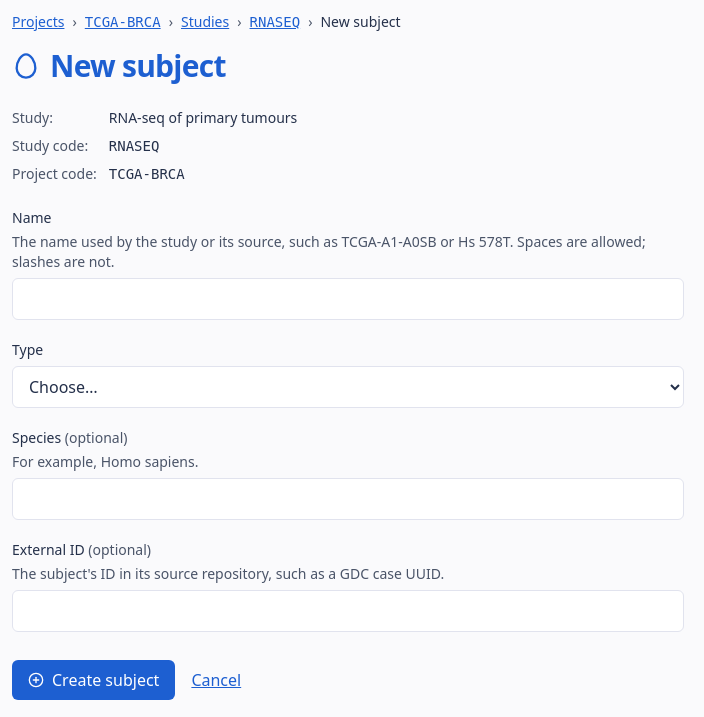
Test: NewSubjectPage › shows that the subject is being created
Type "Hs 578T" into the field labelled "Name" at (348, 299), box [12, 278, 684, 320]
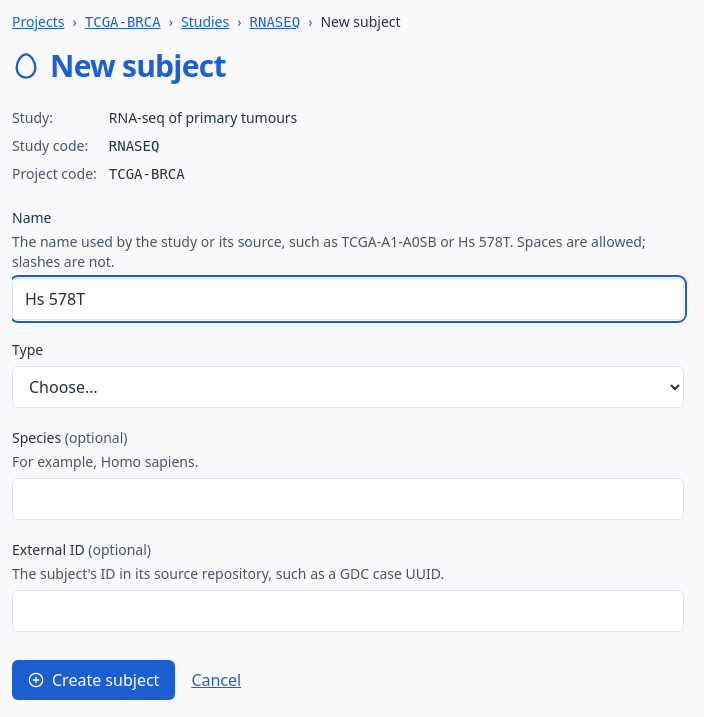
Select "Cell line" in the dropdown labelled "Type" at (348, 387), box [12, 366, 684, 408]
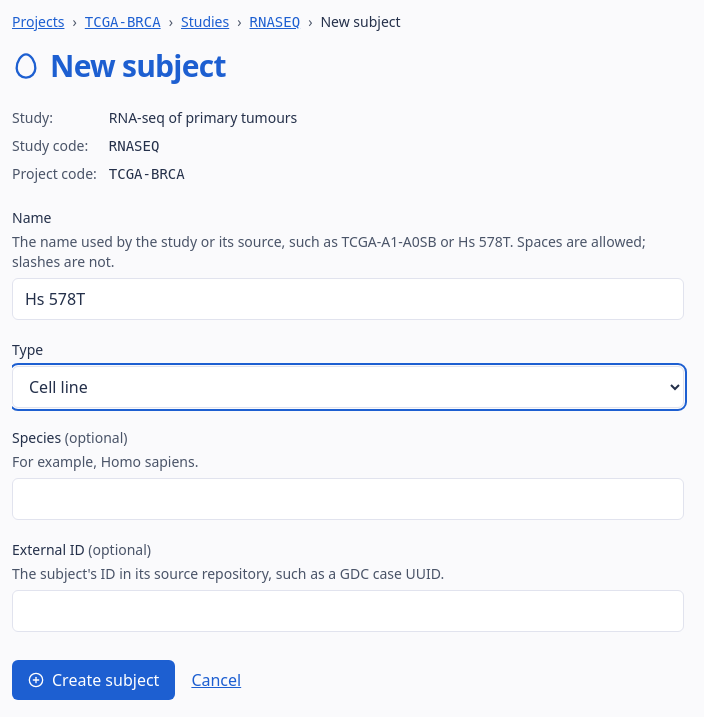
Type "Homo sapiens" into the field labelled "Species (optional)" at (348, 499), box [12, 478, 684, 520]
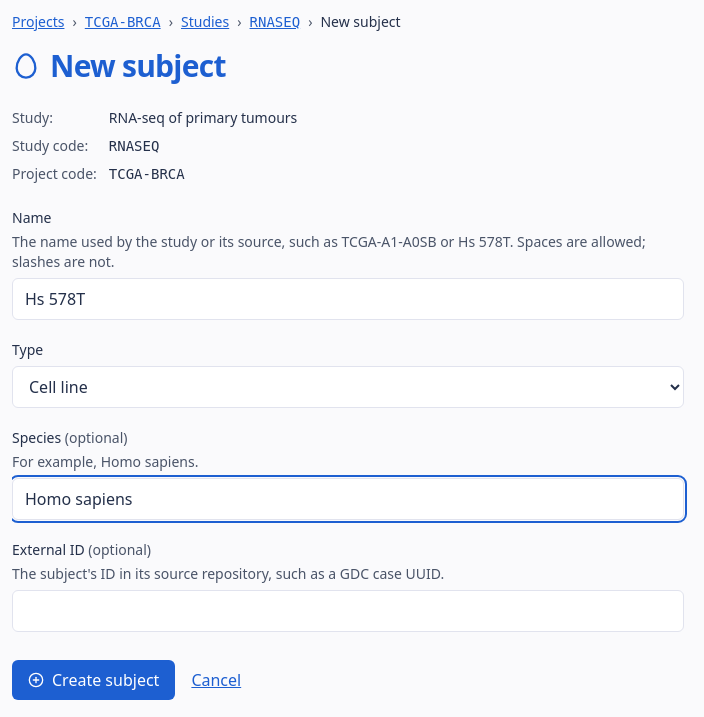
Click the button "Create subject" at (94, 680), box [12, 660, 175, 700]
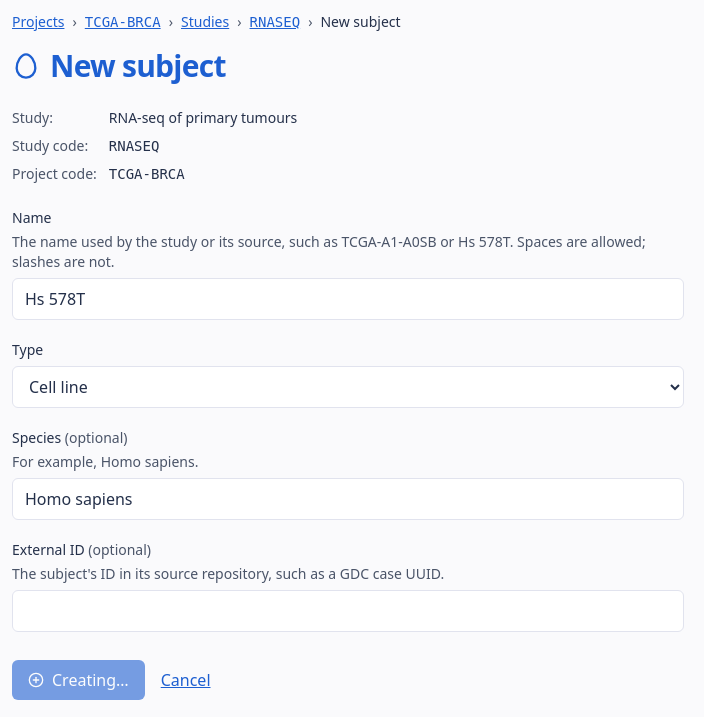
Expected: the button "Creating…" is disabled, [12, 660, 145, 700]
